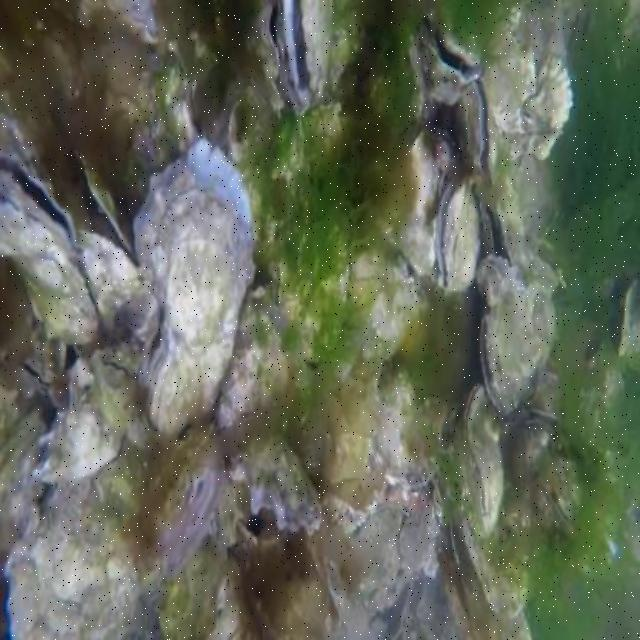Oyster-Closed: (134, 145, 253, 436), (9, 449, 149, 638), (453, 425, 533, 615), (481, 273, 561, 415), (277, 217, 350, 360), (42, 395, 123, 483), (464, 384, 507, 538), (78, 230, 138, 335), (484, 34, 537, 131), (0, 323, 66, 396), (72, 0, 159, 43), (525, 58, 573, 131), (476, 254, 522, 306), (400, 516, 433, 566), (503, 133, 559, 161)
Oyster-Open: (0, 143, 102, 343), (229, 432, 325, 538), (158, 445, 225, 579), (414, 4, 484, 108), (279, 0, 332, 117), (436, 175, 481, 297), (455, 69, 497, 180), (245, 1, 285, 111), (620, 276, 638, 371)
